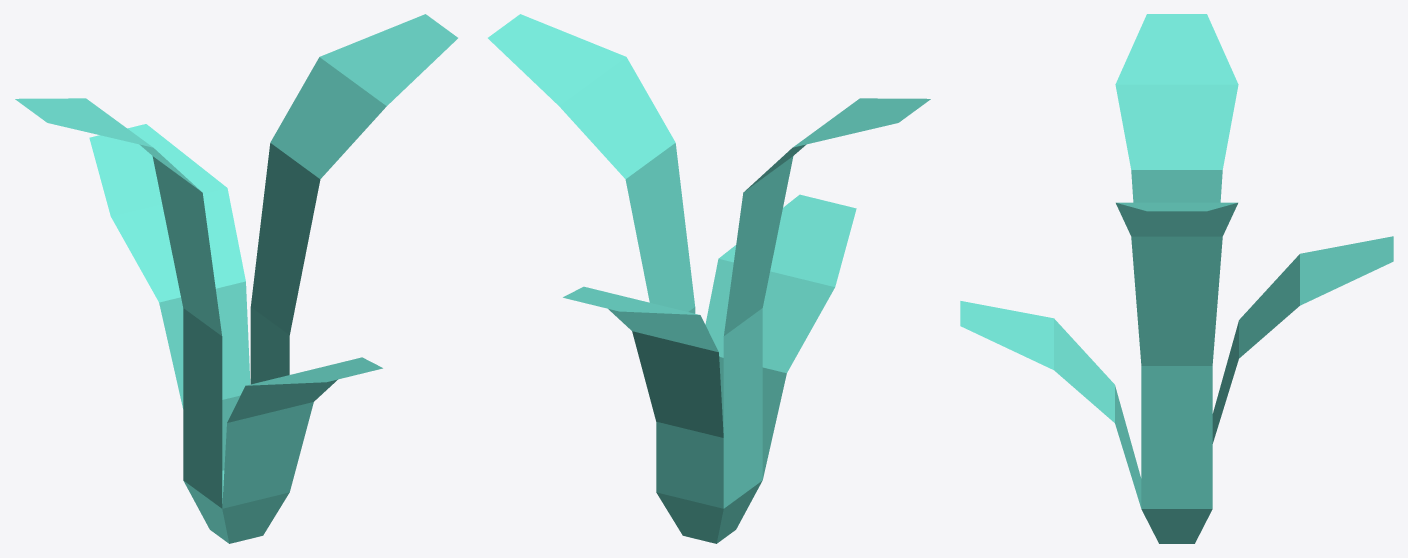
Rendered from crops_leafsStageA.glb.
3 views of the same model, side by side, from view 1: azimuth 30°, elevation 25°; view 2: azimuth 150°, elevation 25°; view 3: azimuth 270°, elevation 25° (orthographic). The views are drawn at different scales.
Visible parts, largest first — view 1: crops_leafsStageA; view 2: crops_leafsStageA; view 3: crops_leafsStageA.
Part boxes in pixels (x1,y1,x2,y2): crops_leafsStageA: (15,14,457,543); crops_leafsStageA: (488,14,930,543); crops_leafsStageA: (960,14,1393,543).
Bounding box in the file's own units: 0.3894 × 0.4271 × 0.3894.
